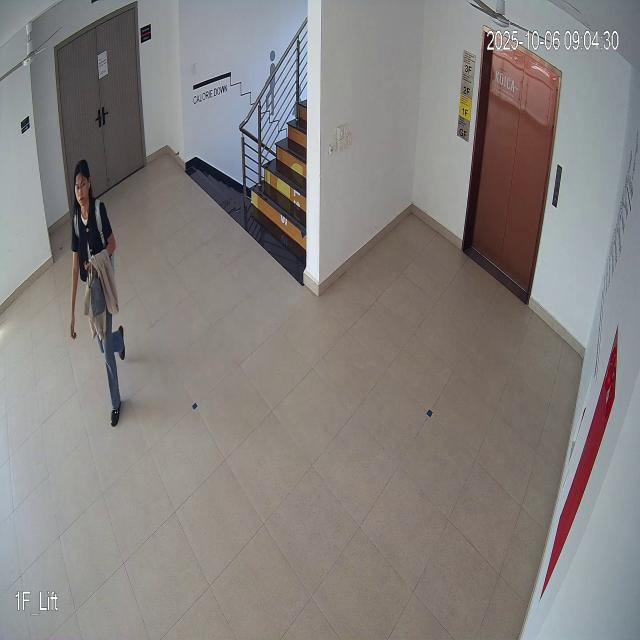face: (68, 157, 98, 218)
